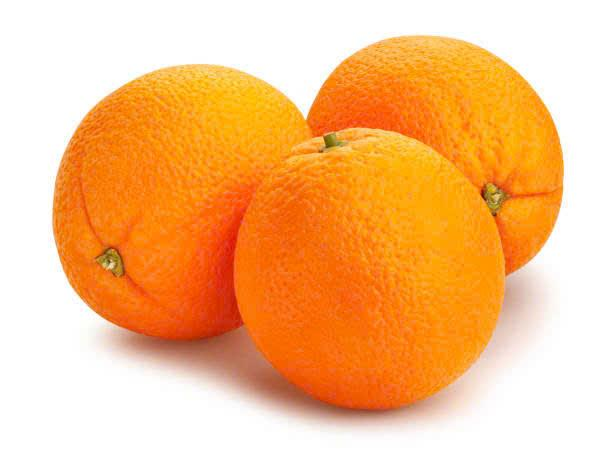orange: (262, 143, 494, 422), (46, 48, 249, 347), (333, 32, 578, 234)
